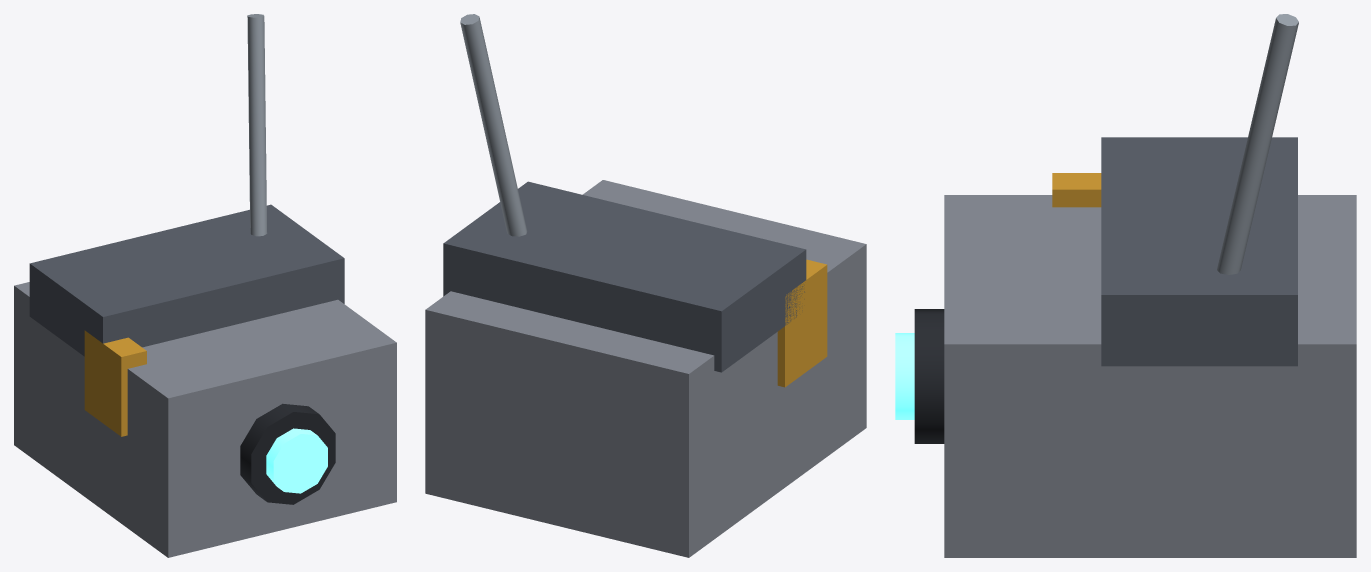
File: head_sensor.glb
The picture shows the model from 3 angles, left to right: view 1: azimuth 30°, elevation 25°; view 2: azimuth 150°, elevation 25°; view 3: azimuth 270°, elevation 25°; orthographic projection. The views are drawn at different scales.
Visible parts, largest first — view 1: head, eye; view 2: head; view 3: head, eye.
Boxes of the visible parts, left/top/right/bottom form: head: left=14, top=14, right=396, bottom=557; eye: left=266, top=428, right=327, bottom=493; head: left=425, top=14, right=866, bottom=557; head: left=914, top=14, right=1356, bottom=557; eye: left=895, top=333, right=914, bottom=419.
Size of the model in its own units: 0.38 by 0.5976 by 0.47.
